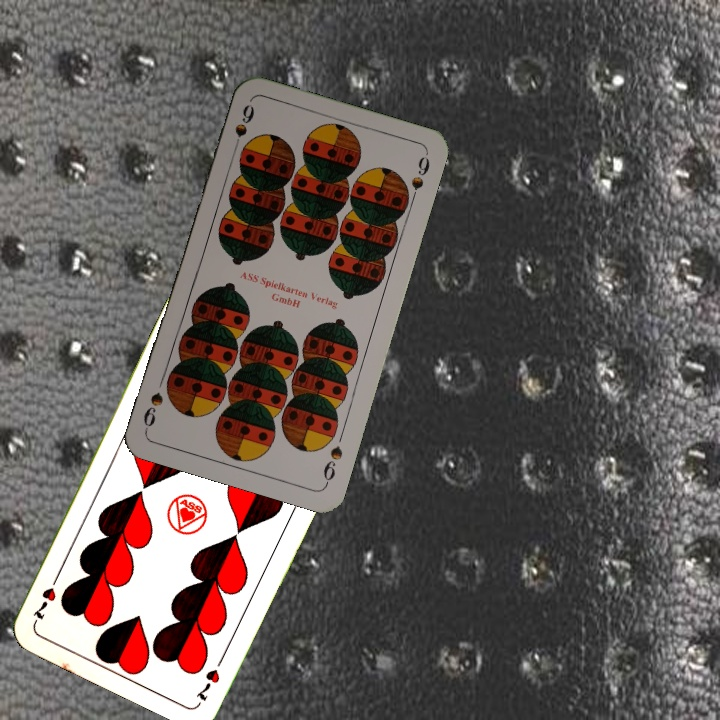H7: (191, 651, 228, 706)
S9: (228, 101, 257, 157), (319, 441, 346, 488)
